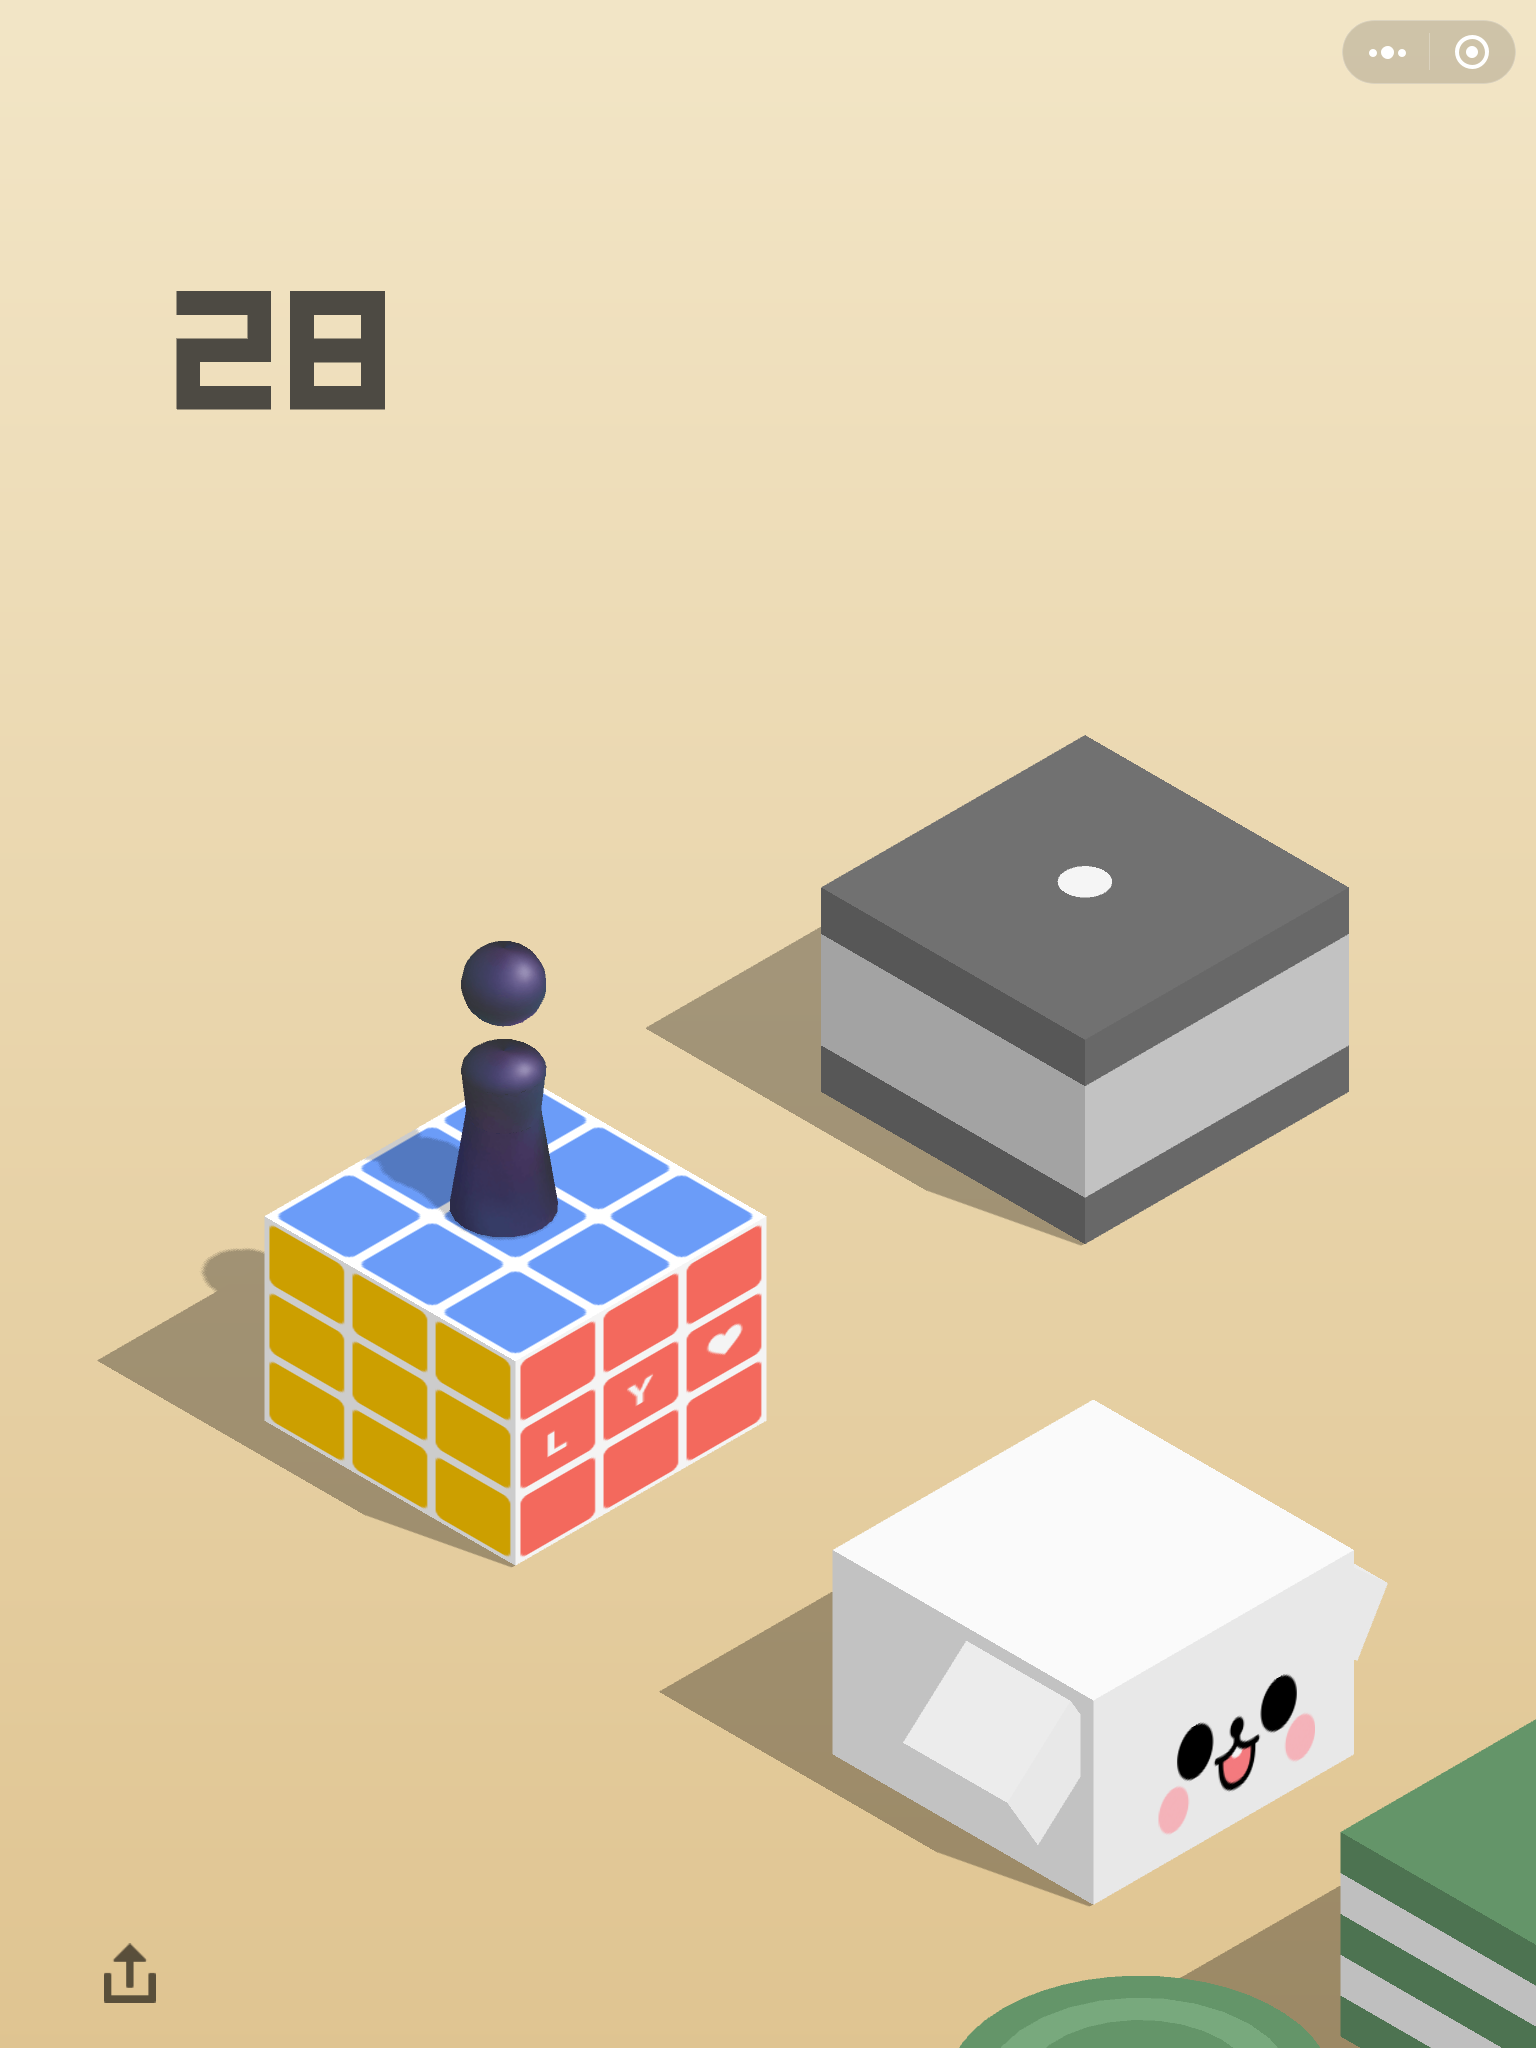f: (824, 1393, 1392, 1916), (815, 731, 1355, 1251), (257, 1071, 771, 1572), (1336, 1711, 1536, 2048)
r: (440, 932, 565, 1243)
